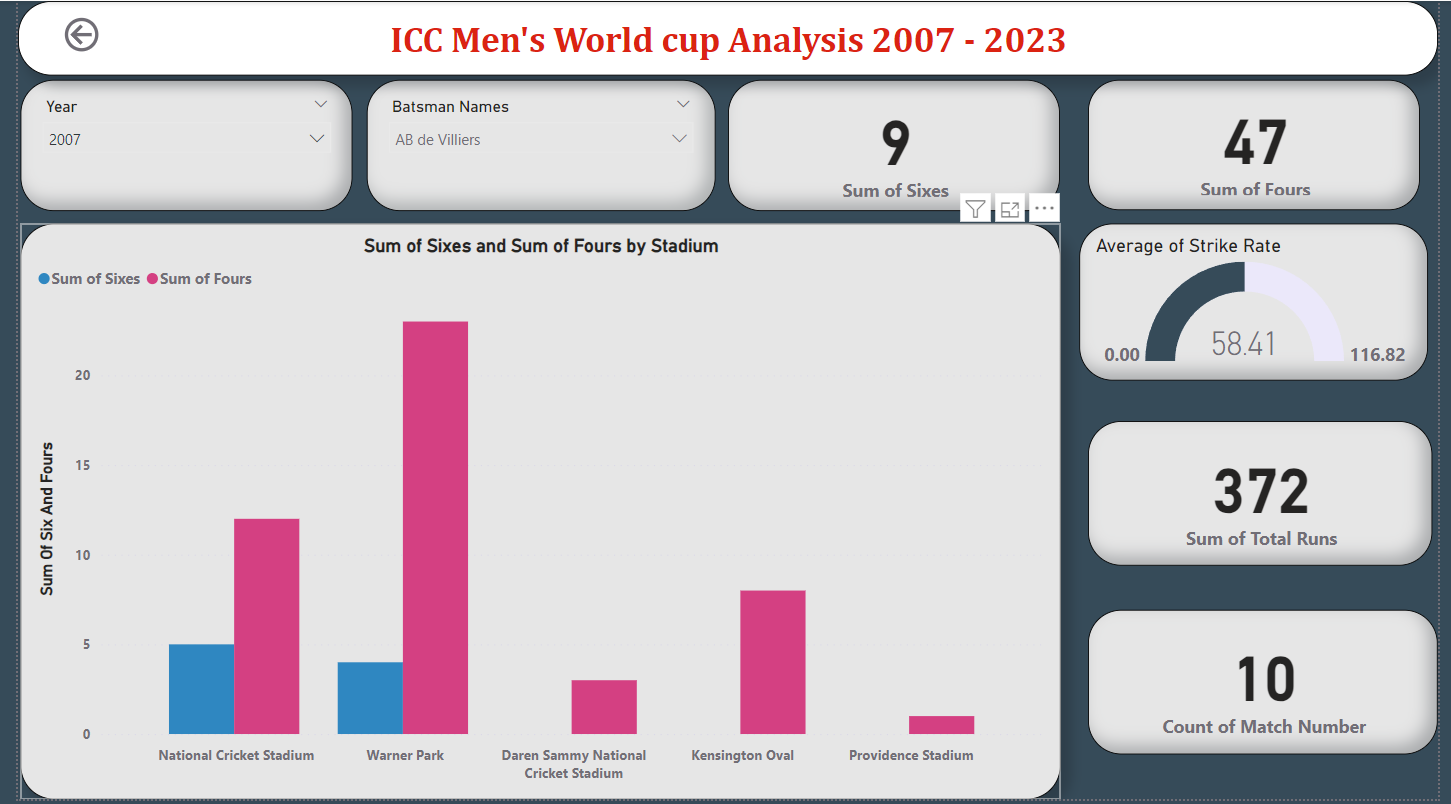

The page's visual inventory and layout, read from the dashboard file:
{"tool":"powerbi","page":{"name":"Batsman Data","canvas":[1280,720],"ordinal":5},"visuals":[{"type":"slicer","fields":{"Values":["Complete_Batting_Data_2007_To_2.Batsman Names"]},"box":[314.2,70.9,314.2,118.6],"z":0},{"type":"slicer","fields":{"Values":["Complete_Batting_Data_2007_To_2.Year"]},"box":[2.4,70.9,299.5,118.6],"z":1000},{"type":"card","fields":{"Values":["Sum(Complete_Batting_Data_2007_To_2.Total Runs)"]},"box":[964.5,378.9,310.5,130.8],"z":2000},{"type":"card","fields":{"Values":["Sum(Complete_Batting_Data_2007_To_2.Sixes)"]},"box":[640.5,70.9,299.5,118.6],"z":3000},{"type":"card","fields":{"Values":["Sum(Complete_Batting_Data_2007_To_2.Fours)"]},"box":[964.5,70.9,299.5,117.4],"z":4000},{"type":"gauge","fields":{"Y":["Avg(Complete_Batting_Data_2007_To_2.Strike Rate)"]},"box":[957.1,200.5,314.2,141.8],"z":5000},{"type":"clusteredColumnChart","fields":{"Category":["Complete_Batting_Data_2007_To_2.Stadium"],"Y":["Sum(Complete_Batting_Data_2007_To_2.Sixes)","Sum(Complete_Batting_Data_2007_To_2.Fours)"]},"box":[2.4,200.5,937.6,519.5],"z":6000},{"type":"card","fields":{"Values":["Count(Complete_Batting_Data_2007_To_2.Match Number)"]},"box":[964.5,548.9,315.4,130.8],"z":7000},{"type":"textbox","box":[0,0,1279.9,67.2],"z":9000},{"type":"actionButton","box":[36.7,9.8,100.2,40.3],"z":9500}]}

Visuals, with their boxes in screenshot pixels (x1, y1, x2, y2), scaled from the page's 1280x720 canvas onto the 1451x804 screenshot:
slicer - Complete_Batting_Data_2007_To_2.Batsman Names: <bbox>356, 79, 712, 212</bbox>
slicer - Complete_Batting_Data_2007_To_2.Year: <bbox>3, 79, 342, 212</bbox>
card - Sum(Complete_Batting_Data_2007_To_2.Total Runs): <bbox>1093, 423, 1445, 569</bbox>
card - Sum(Complete_Batting_Data_2007_To_2.Sixes): <bbox>726, 79, 1066, 212</bbox>
card - Sum(Complete_Batting_Data_2007_To_2.Fours): <bbox>1093, 79, 1433, 210</bbox>
gauge - Avg(Complete_Batting_Data_2007_To_2.Strike Rate): <bbox>1085, 224, 1441, 382</bbox>
clusteredColumnChart - Complete_Batting_Data_2007_To_2.Stadium x Sum(Complete_Batting_Data_2007_To_2.Sixes): <bbox>3, 224, 1066, 803</bbox>
card - Count(Complete_Batting_Data_2007_To_2.Match Number): <bbox>1093, 613, 1450, 759</bbox>
textbox: <bbox>0, 0, 1450, 75</bbox>
actionButton: <bbox>42, 11, 155, 56</bbox>
